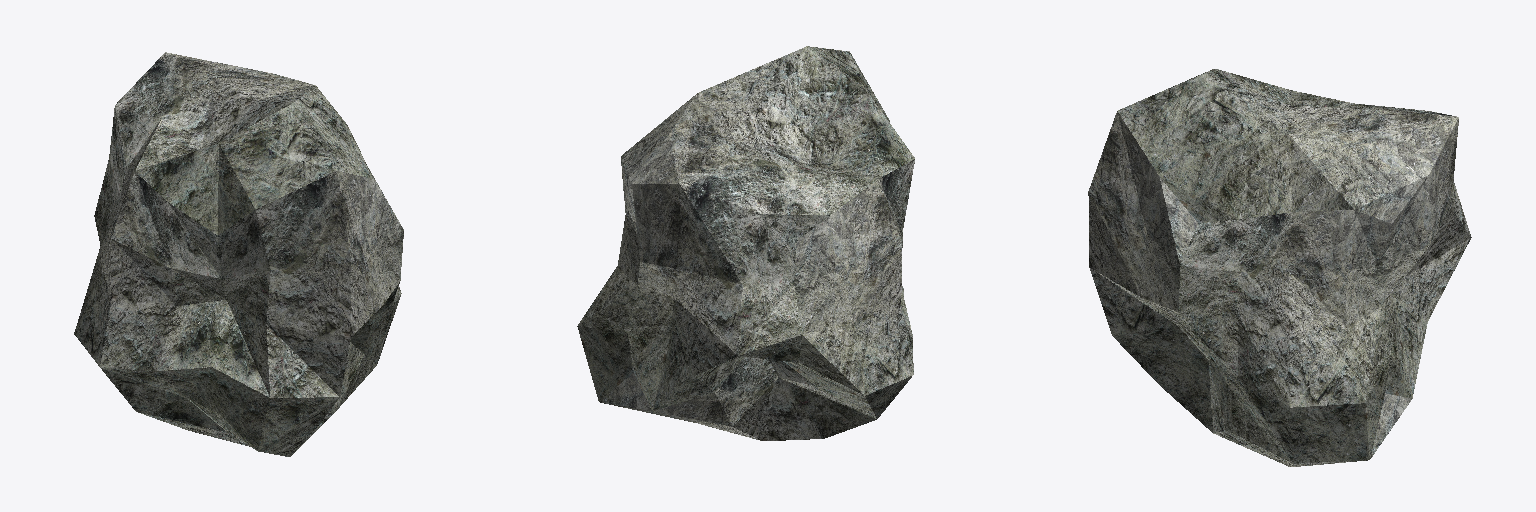
3 views of the same model, side by side, from view 1: azimuth 30°, elevation 25°; view 2: azimuth 150°, elevation 25°; view 3: azimuth 270°, elevation 25° (orthographic).
Visible parts, largest first — view 1: rock_Cube; view 2: rock_Cube; view 3: rock_Cube.
Boxes of the visible parts, <box> form: rock_Cube: <box>74,52,403,456</box>; rock_Cube: <box>577,46,914,440</box>; rock_Cube: <box>1088,69,1471,466</box>.
Size of the model in its own units: 1.92 by 2.21 by 2.11.
1 materials, 1 textured.